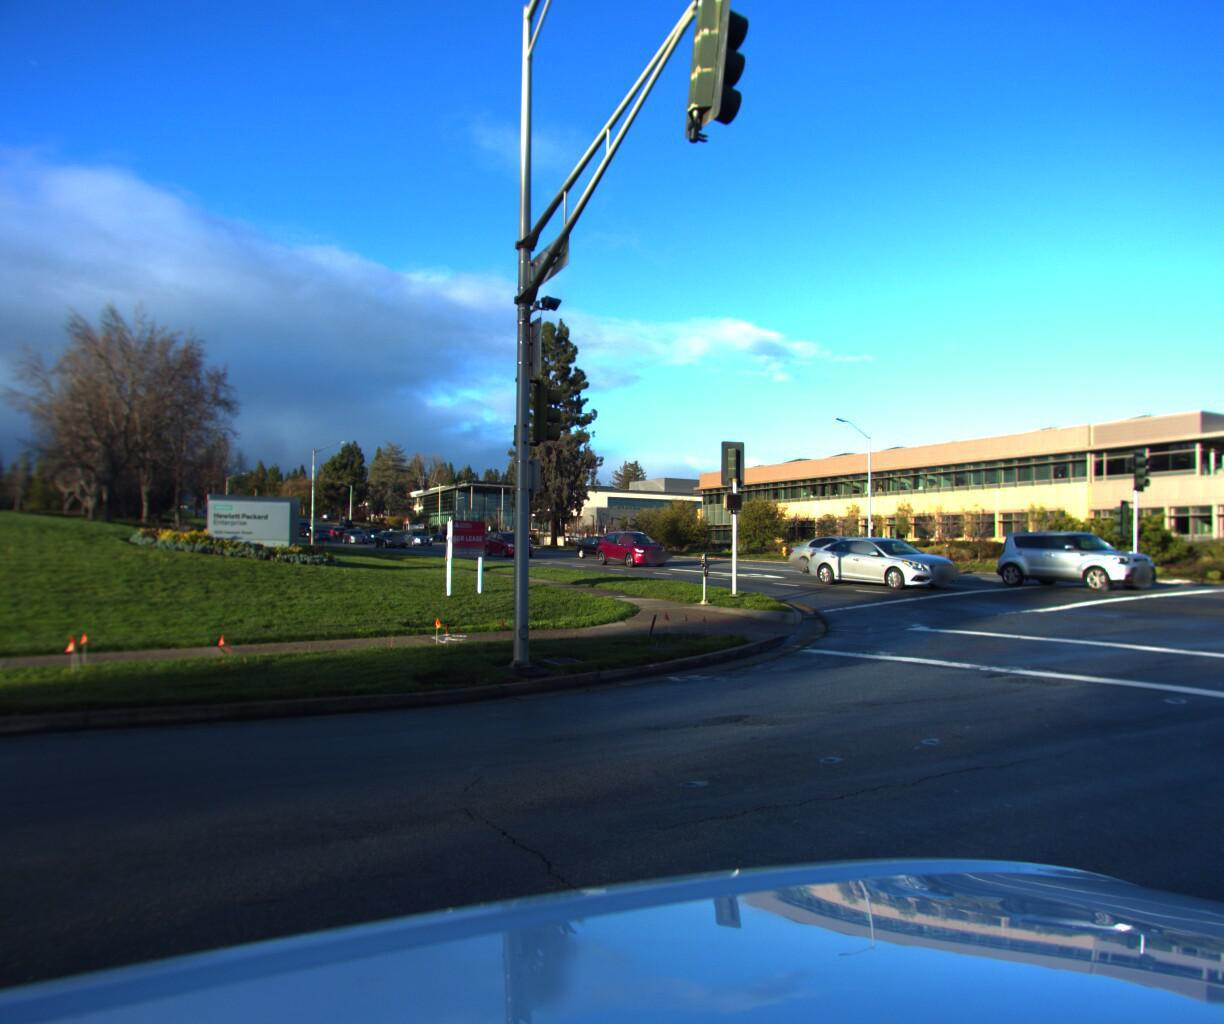car: (986, 527, 1161, 590), (801, 533, 964, 590), (782, 531, 911, 576), (591, 528, 670, 566), (573, 531, 638, 558), (483, 531, 538, 558), (342, 526, 373, 542)
